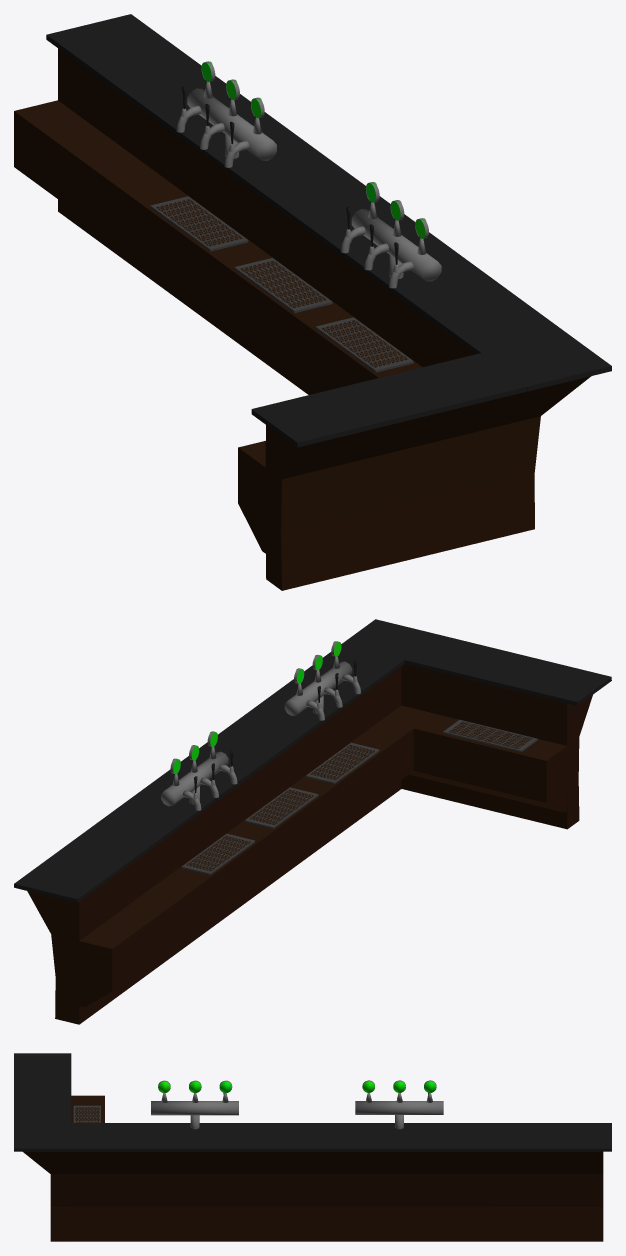
Rendered from BEEGBar_C.fbx.
3 renders of one model, top to bottom at view 1: azimuth 30°, elevation 25°; view 2: azimuth 150°, elevation 25°; view 3: azimuth 270°, elevation 25°, orthographic. The views are drawn at different scales.
Visible parts, largest first — view 1: Cube.001; view 2: Cube.001; view 3: Cube.001.
Part boxes in pixels (x1,y1,x2,y2): Cube.001: [14, 14, 611, 590]; Cube.001: [14, 619, 611, 1024]; Cube.001: [14, 1053, 611, 1241].
Size of the model in its own units: 2.05 by 1.55 by 5.43.
